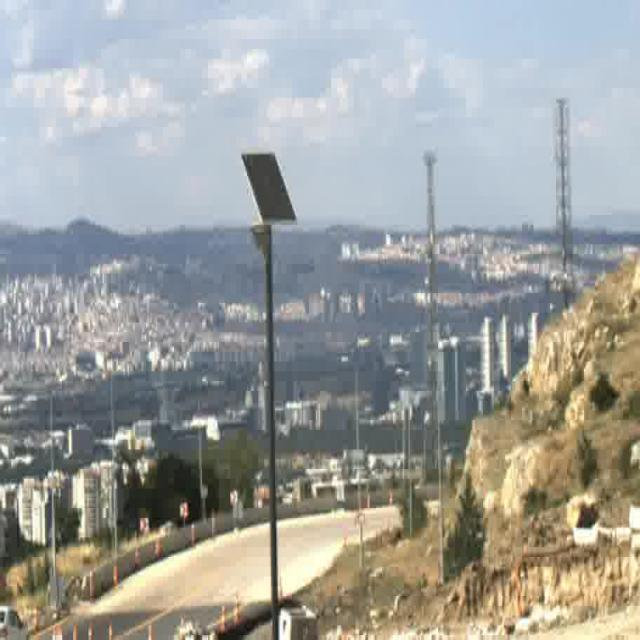Car: (0, 602, 27, 640)
